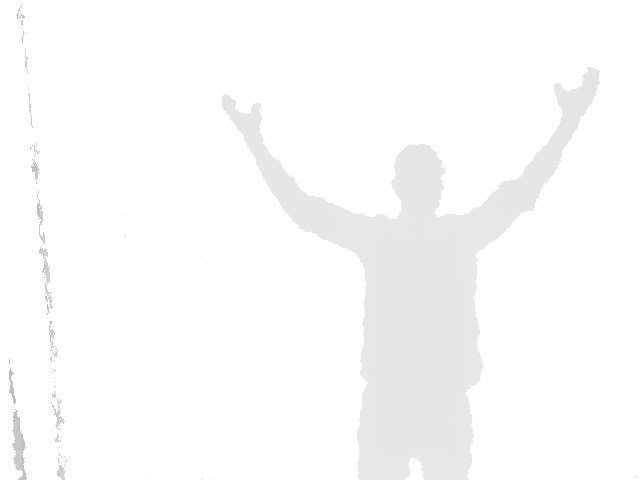hand: (553, 65, 600, 123), (219, 94, 263, 138)
head: (391, 143, 447, 212)
person: (219, 66, 601, 480)
